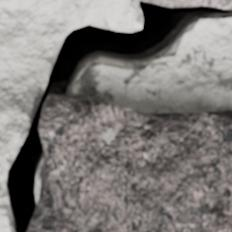brick: (27, 95, 231, 231), (148, 0, 231, 7)
crack: (0, 0, 231, 231)
